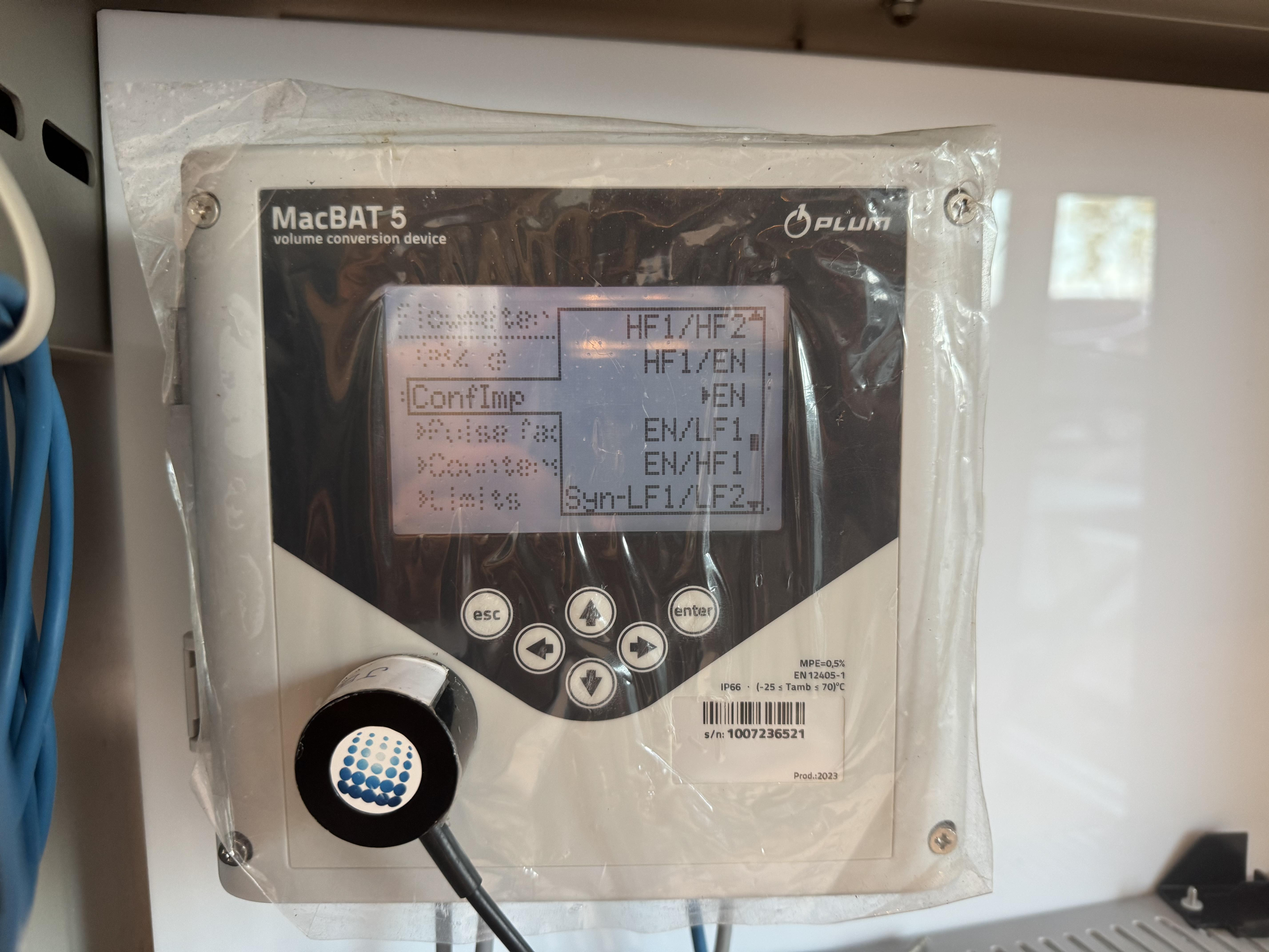digital_screen: (386, 286, 787, 536)
